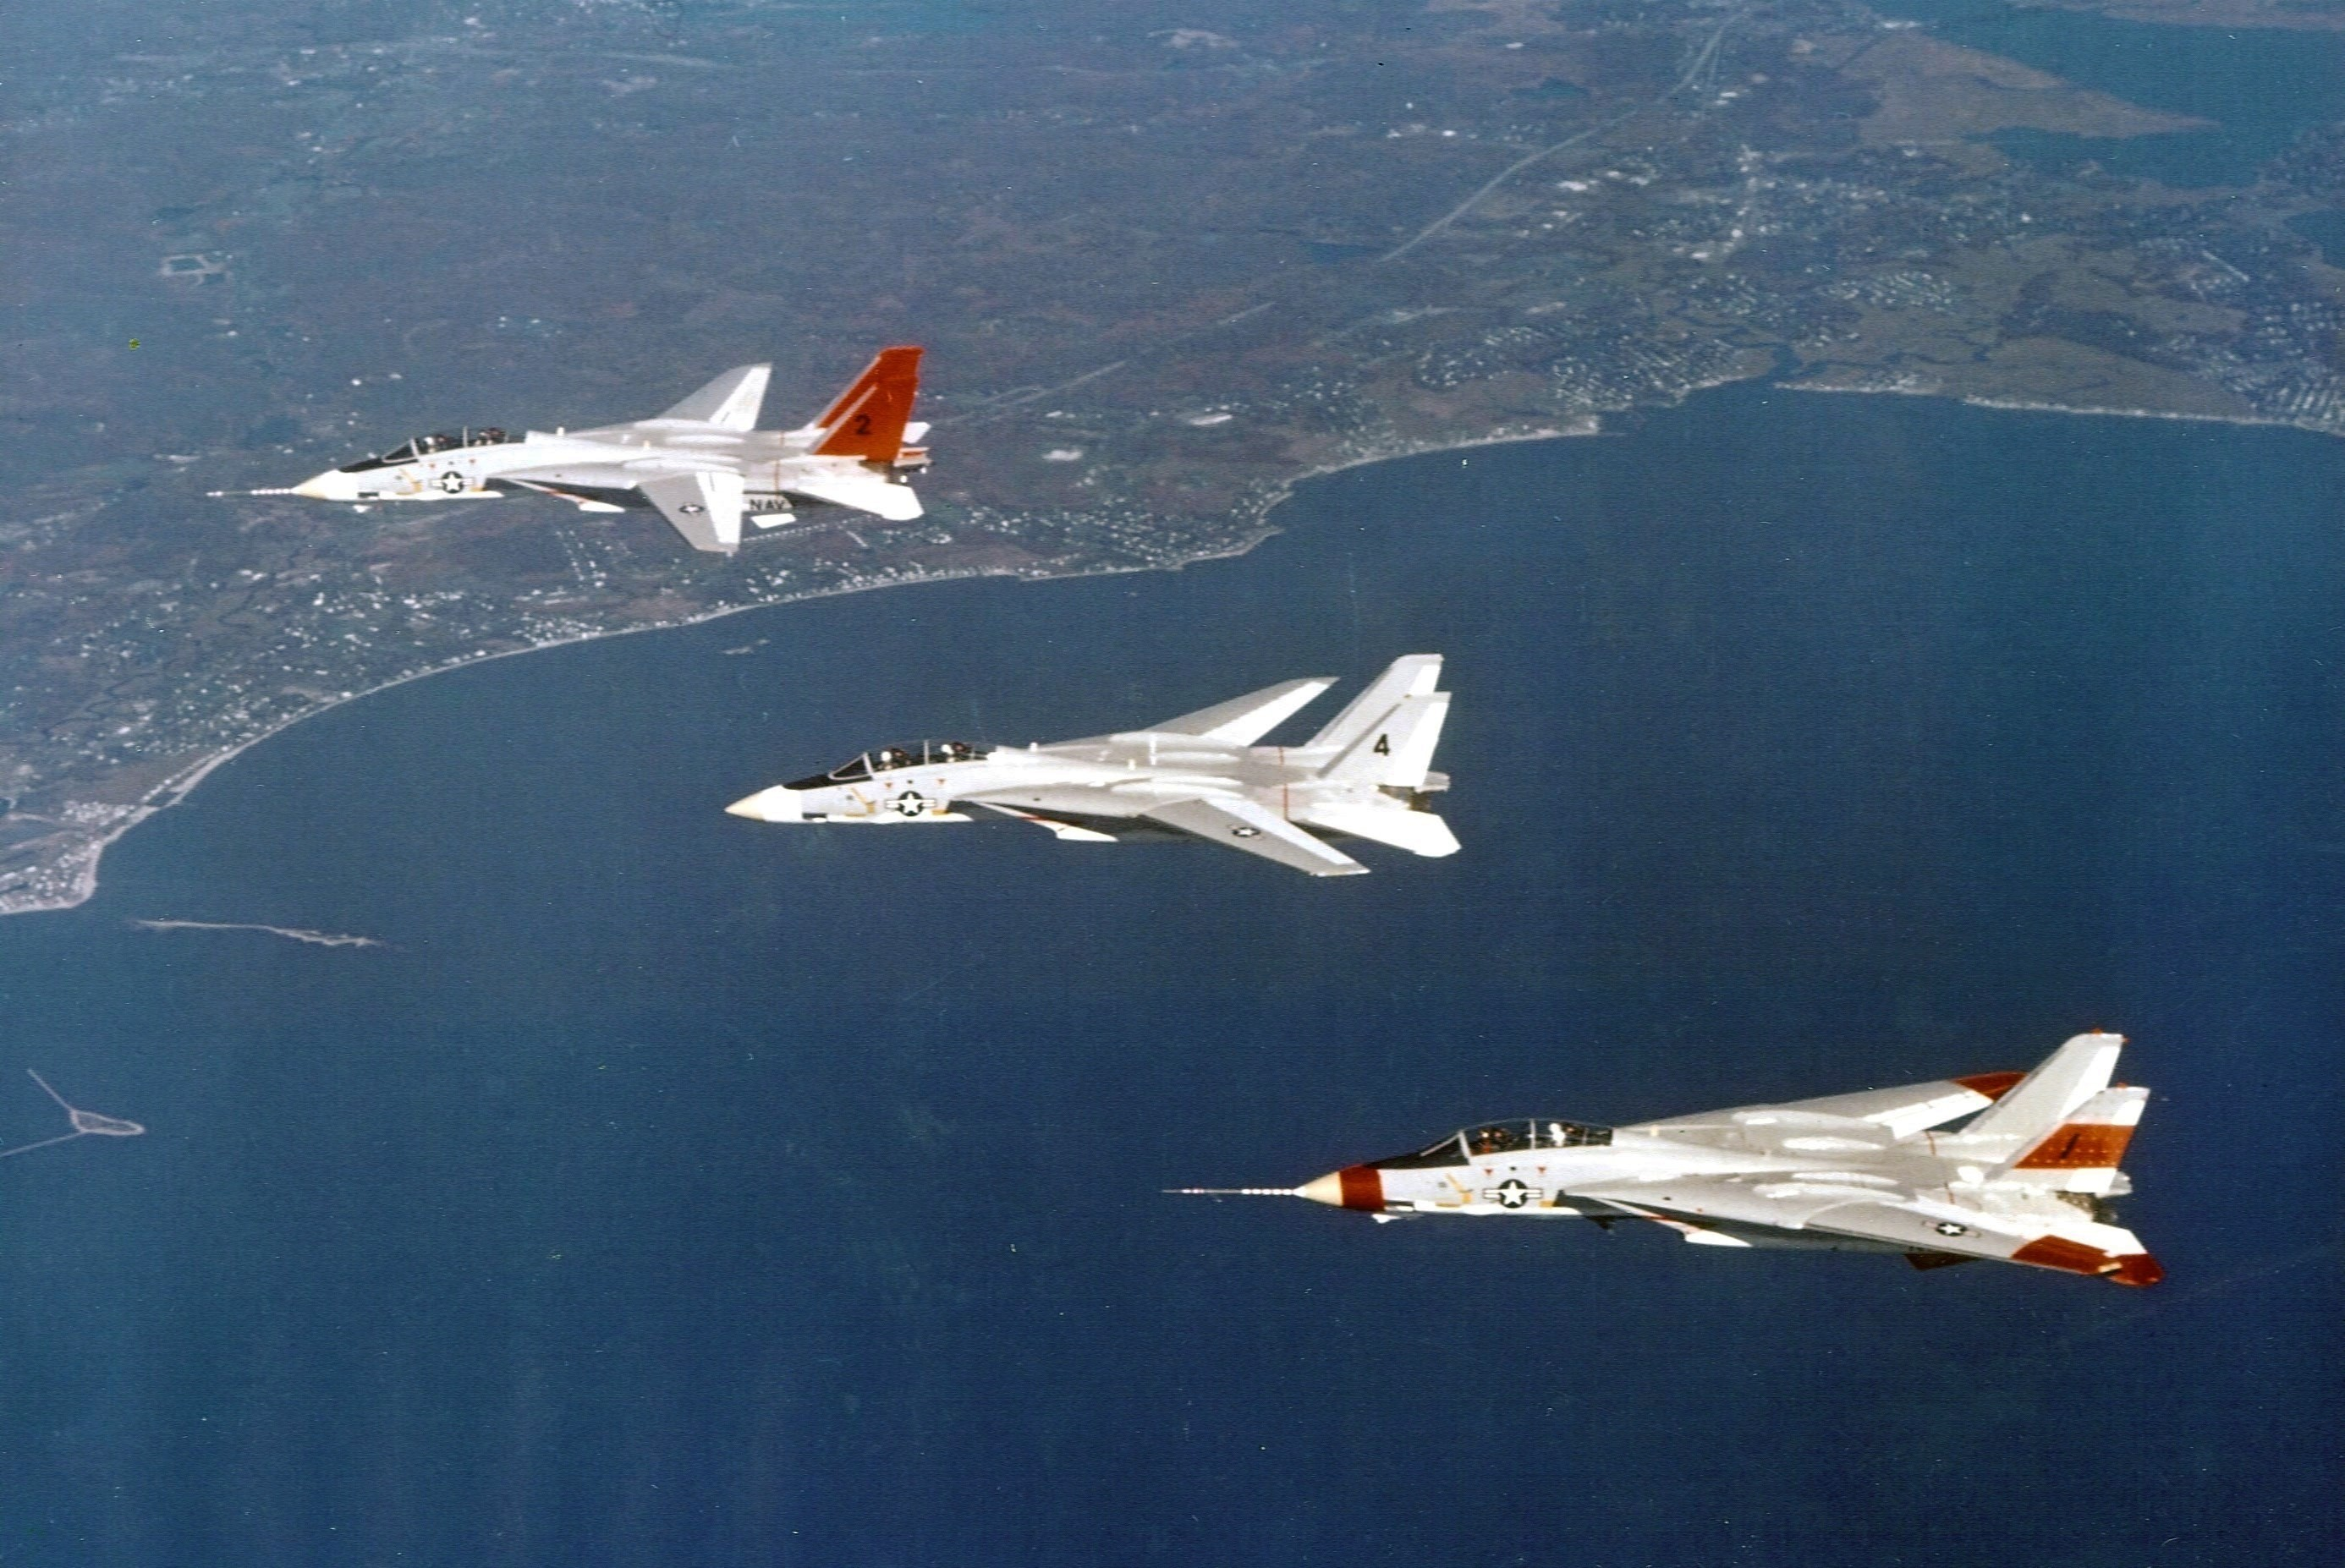F14: (1157, 1025, 2166, 1290), (723, 653, 1461, 878), (205, 343, 936, 553)
